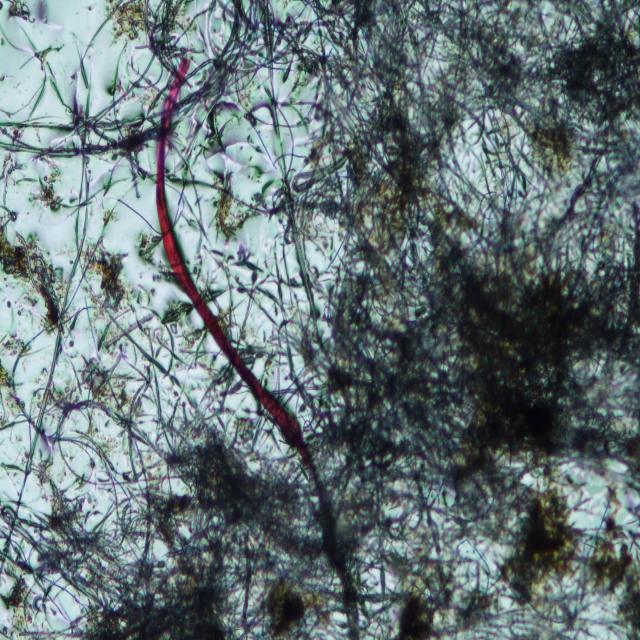Background material: (352, 0, 640, 640), (0, 0, 172, 637), (165, 0, 378, 399), (93, 361, 317, 640)
Cotton: (154, 49, 363, 640)
